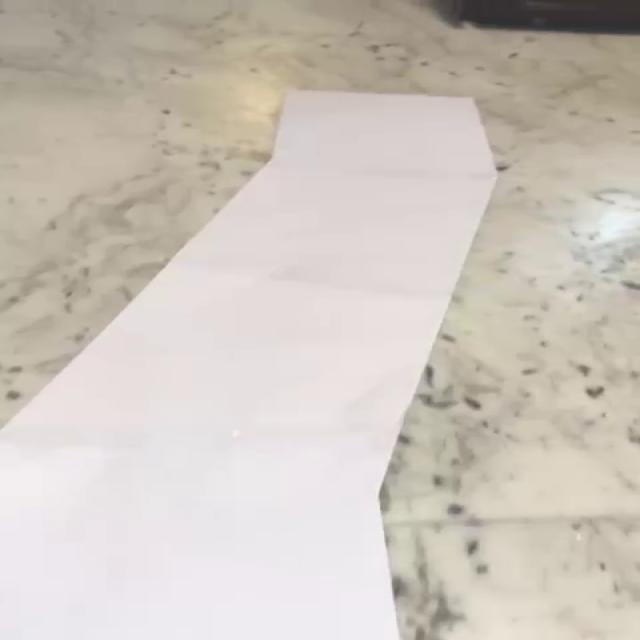road: (3, 91, 495, 640)
